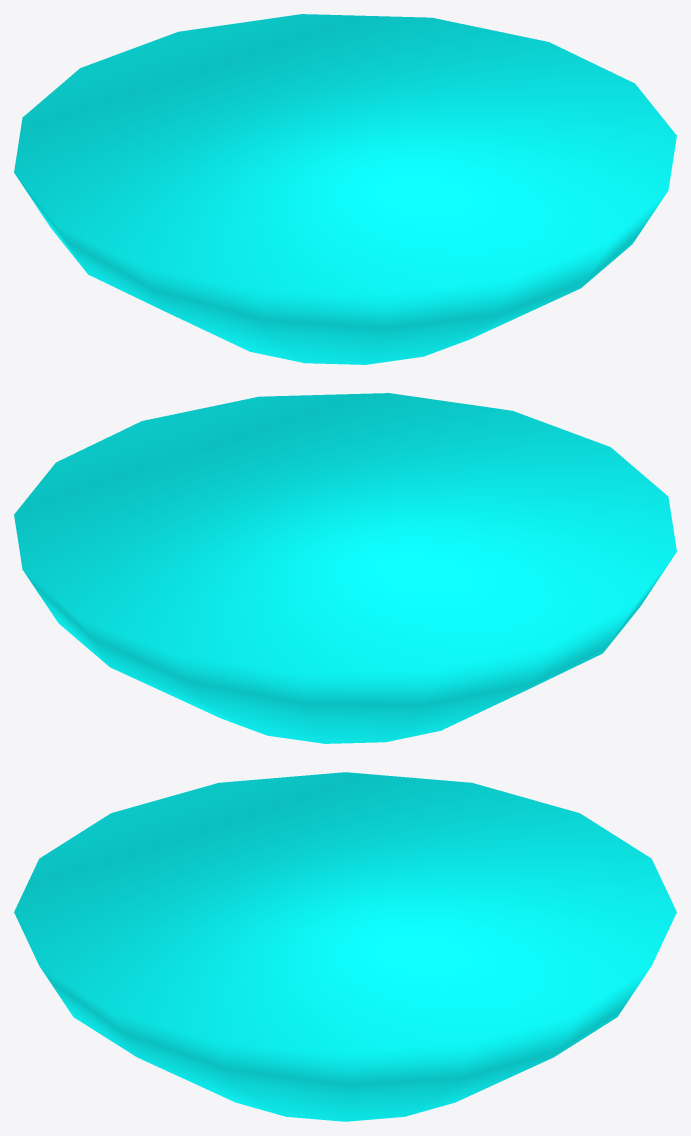
File: WaterDrop_15.glb
The picture shows the model from 3 angles, top to bottom: view 1: azimuth 30°, elevation 25°; view 2: azimuth 150°, elevation 25°; view 3: azimuth 270°, elevation 25°; orthographic projection.
Visible parts, largest first — view 1: WaterDrop_15; view 2: WaterDrop_15; view 3: WaterDrop_15.
Part boxes in pixels (x1=…): WaterDrop_15: x1=14, y1=14, x2=676, y2=364; WaterDrop_15: x1=14, y1=393, x2=676, y2=743; WaterDrop_15: x1=14, y1=772, x2=676, y2=1121.
Size of the model in its own units: 0.4921 by 0.1328 by 0.4921.
Materials: 1 (1 with a texture image).
